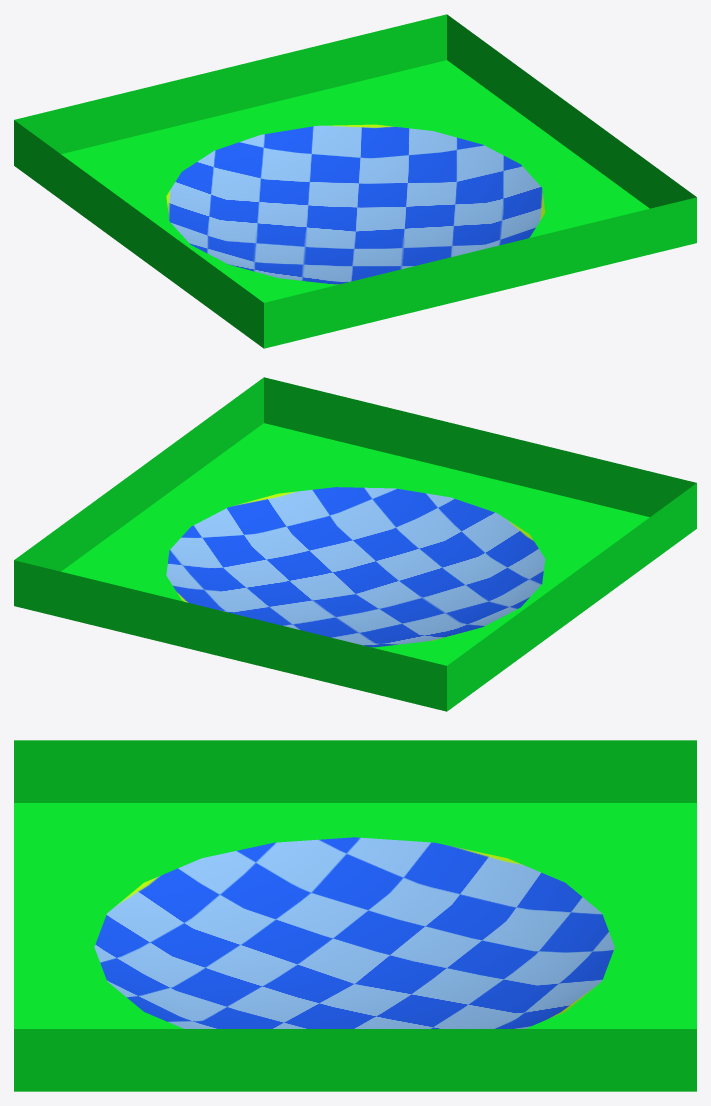
Rendered from LightCeiling01_11.FBX.
3 views of the same model, one above another, from view 1: azimuth 30°, elevation 25°; view 2: azimuth 150°, elevation 25°; view 3: azimuth 270°, elevation 25° (orthographic). The views are drawn at different scales.
Parts seen in each view (by area): view 1: LightCeiling01_11; view 2: LightCeiling01_11; view 3: LightCeiling01_11.
Boxes of the visible parts, x1,y1,x2,y2 form: LightCeiling01_11: (14, 14, 696, 348); LightCeiling01_11: (14, 377, 696, 711); LightCeiling01_11: (14, 740, 696, 1091).
Size of the model in its own units: 15 by 2.41 by 15.
